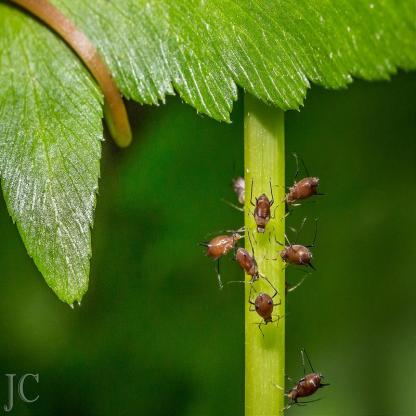aphid: (278, 341, 326, 412), (198, 221, 242, 271), (276, 228, 314, 281), (287, 159, 321, 217), (250, 283, 284, 338), (249, 186, 281, 238), (226, 166, 253, 214), (233, 247, 267, 281)
